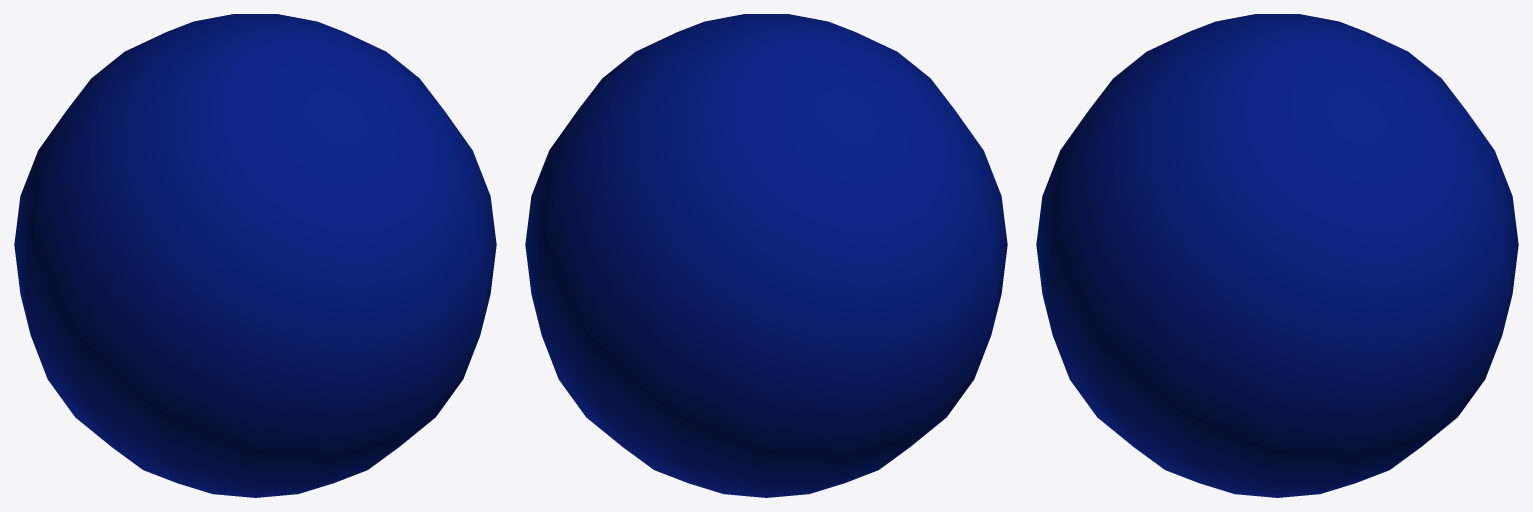
Rendered from FrogEggEmbryo.fbx.
3 renders of one model, left to right at view 1: azimuth 30°, elevation 25°; view 2: azimuth 150°, elevation 25°; view 3: azimuth 270°, elevation 25°, orthographic.
Visible parts, largest first — view 1: OuterEggEmbryo; view 2: OuterEggEmbryo; view 3: OuterEggEmbryo.
Part boxes in pixels (x1,y1,x2,y2): OuterEggEmbryo: (14,14,496,497); OuterEggEmbryo: (525,14,1007,497); OuterEggEmbryo: (1036,14,1518,497).
Bounding box in the file's own units: 11.02 × 11.14 × 11.08.
